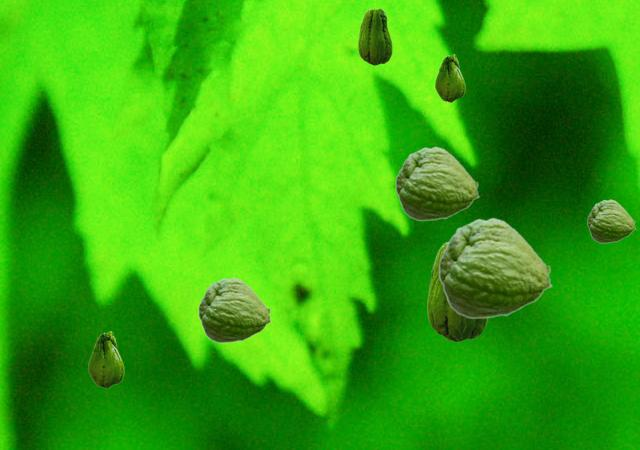sayote: (438, 217, 552, 318), (395, 146, 479, 220), (427, 241, 487, 341), (198, 277, 271, 342), (587, 199, 635, 242), (88, 331, 123, 387), (358, 8, 391, 64), (435, 54, 464, 101)
